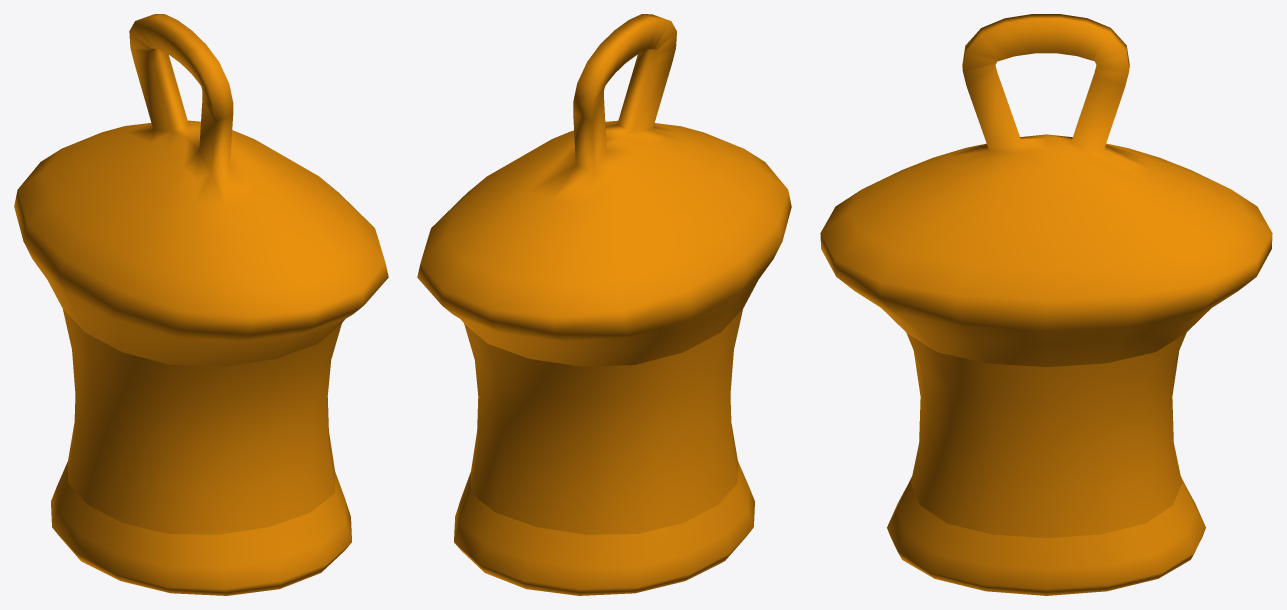
File: Lantern.fbx
3 renders of one model, left to right at view 1: azimuth 30°, elevation 25°; view 2: azimuth 150°, elevation 25°; view 3: azimuth 270°, elevation 25°, orthographic.
Visible parts, largest first — view 1: Lantern; view 2: Lantern; view 3: Lantern.
Boxes of the visible parts, x1,y1,x2,y2 form: Lantern: (14, 14, 388, 595); Lantern: (417, 14, 791, 595); Lantern: (820, 14, 1272, 595).
Size of the model in its own units: 0.5719 by 0.9984 by 0.7906.
